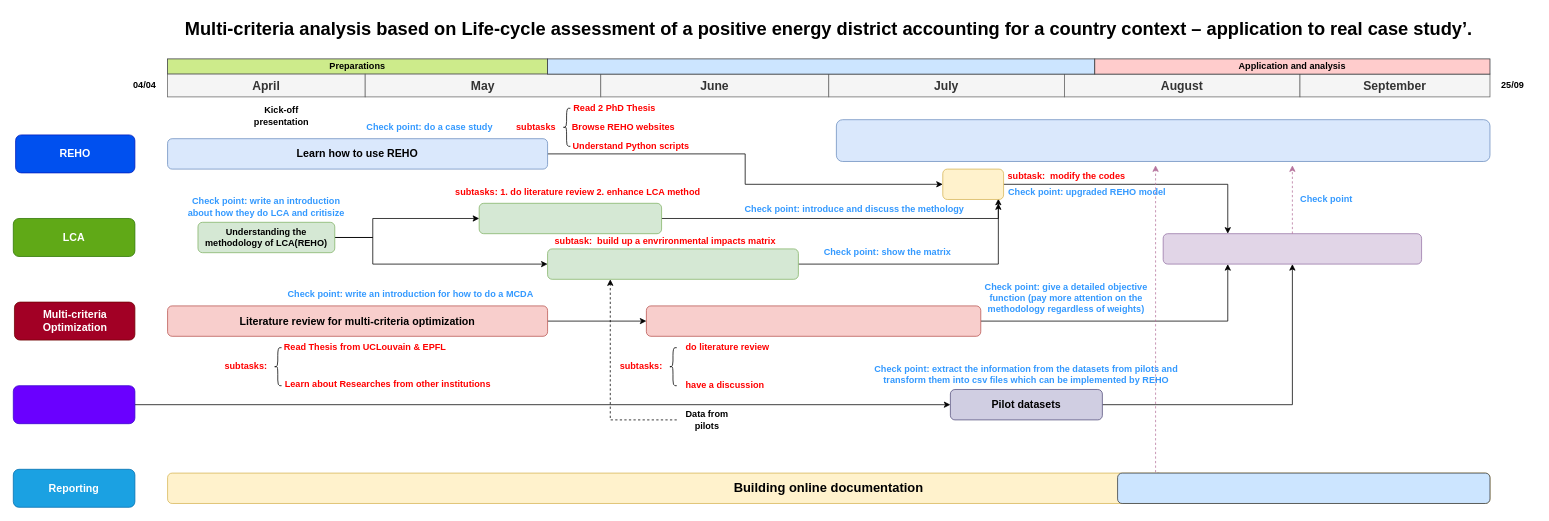
Image size: 1549x521. Some labels were removed from this diagram. Here are the shapes that lost their labels. From the top down, the centre of each, then its label:
At (x=821, y=66): "Development".
At (x=1163, y=140): "Write master thesis and prepare for the final presentation".
At (x=973, y=184): "Integration of LCA framework within REHO".
At (x=570, y=218): "Methodology enhancement".
At (x=672, y=263): "LCA database".
At (x=1292, y=248): "Methodology; Case study specifications; Results; Analysis".
At (x=813, y=320): "Extend objective function (to account for several objects)".
At (x=74, y=404): "Case study".
At (x=1303, y=488): "Article publishing preparations".
